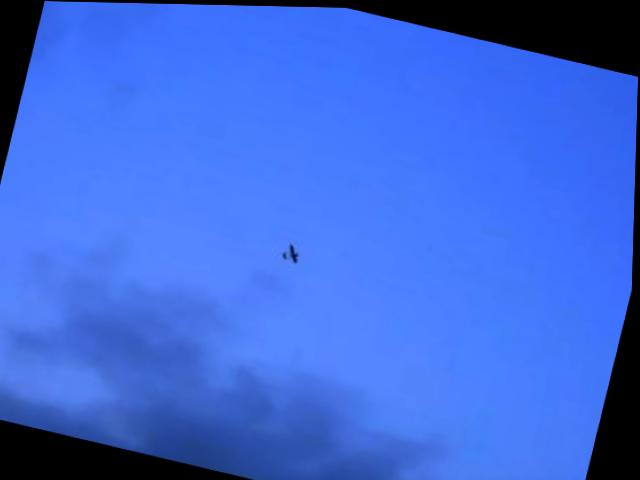uav: (278, 238, 305, 266)
